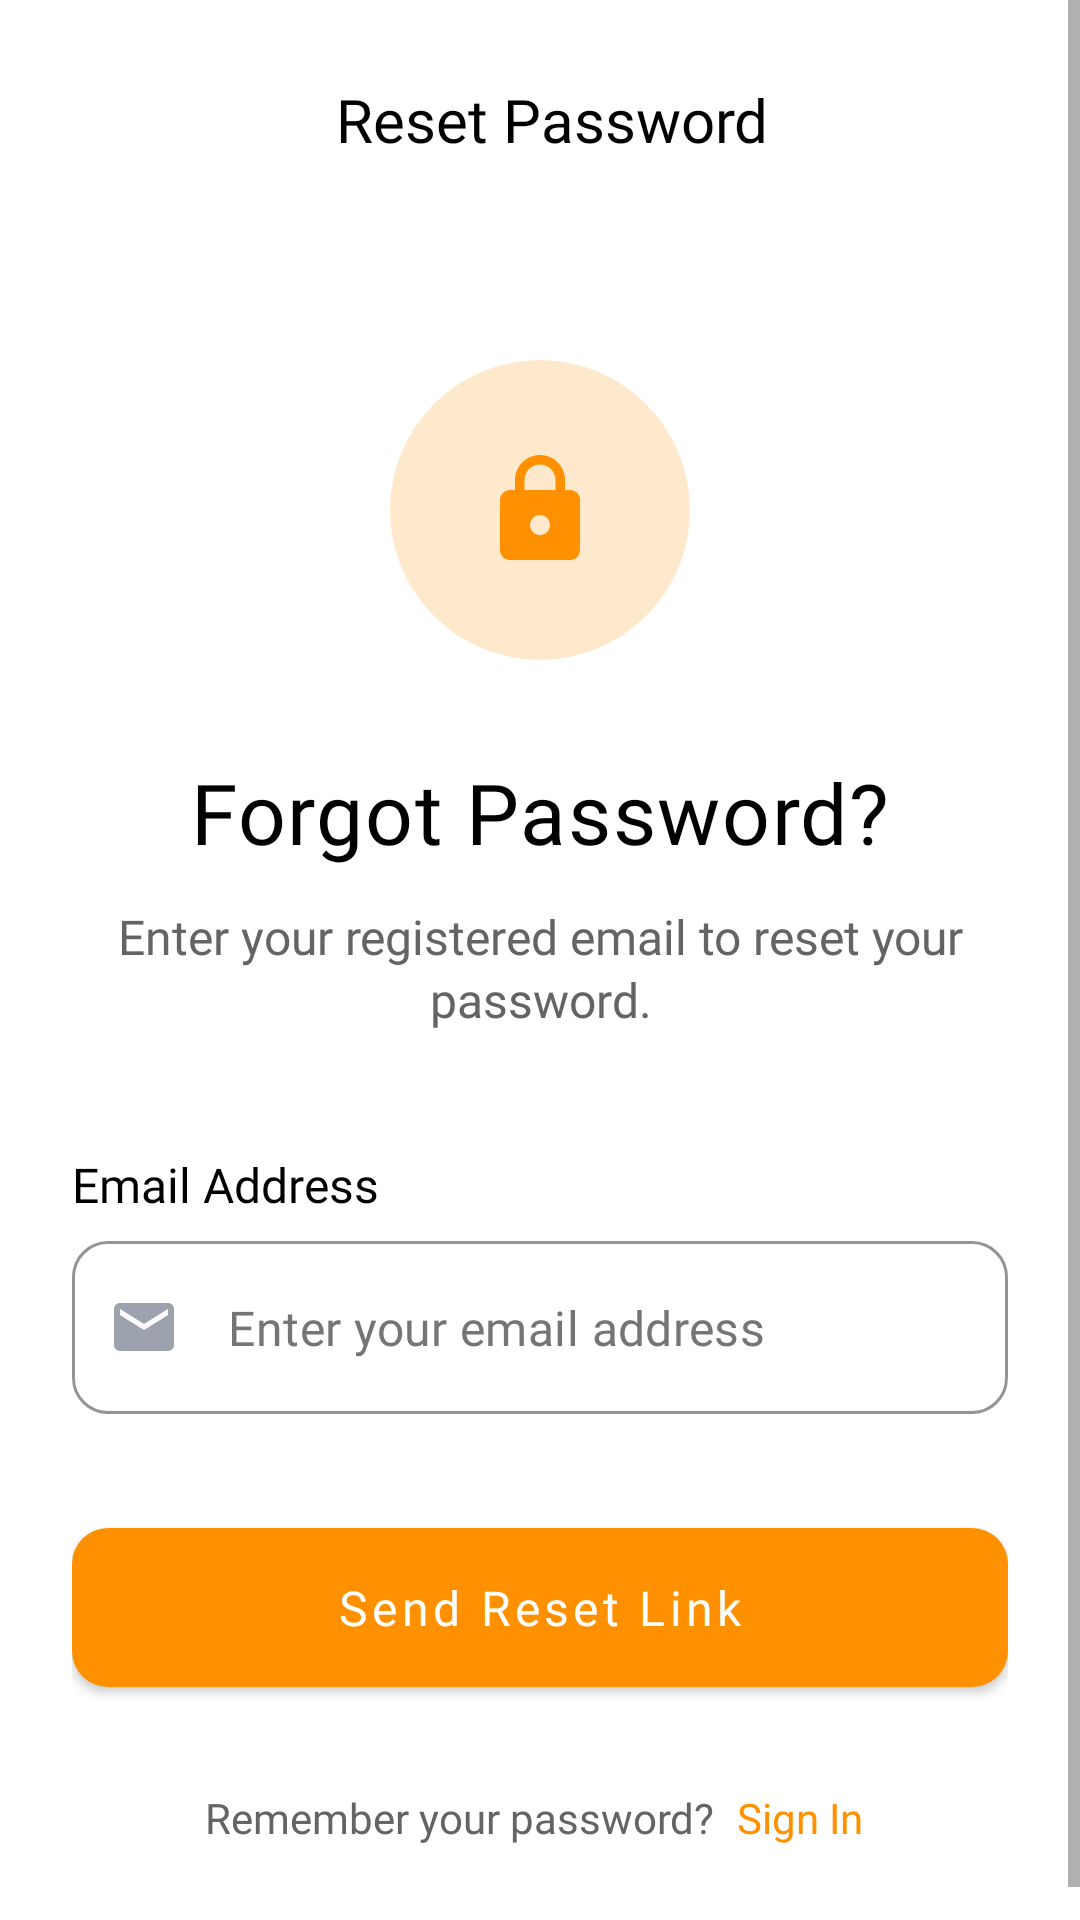

Where icons sit on this 1080px×1920px app screen, as (x1, y1, x2, y2):
lock: (500, 455, 580, 560)
